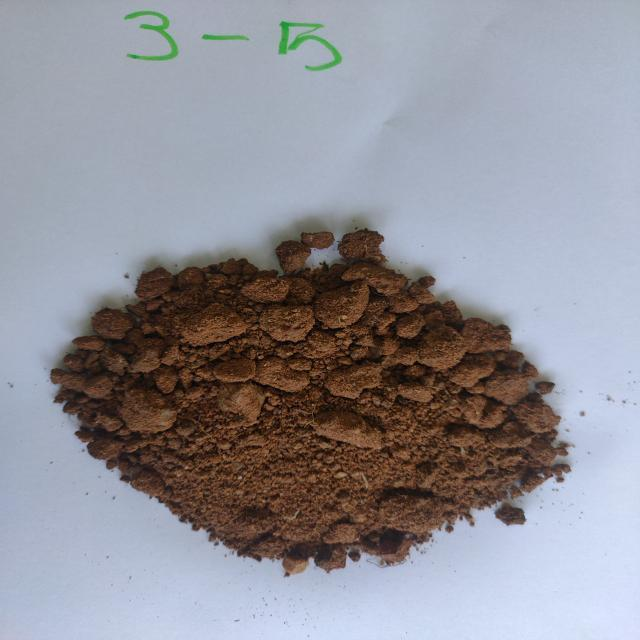soil: (148, 288, 450, 512)
